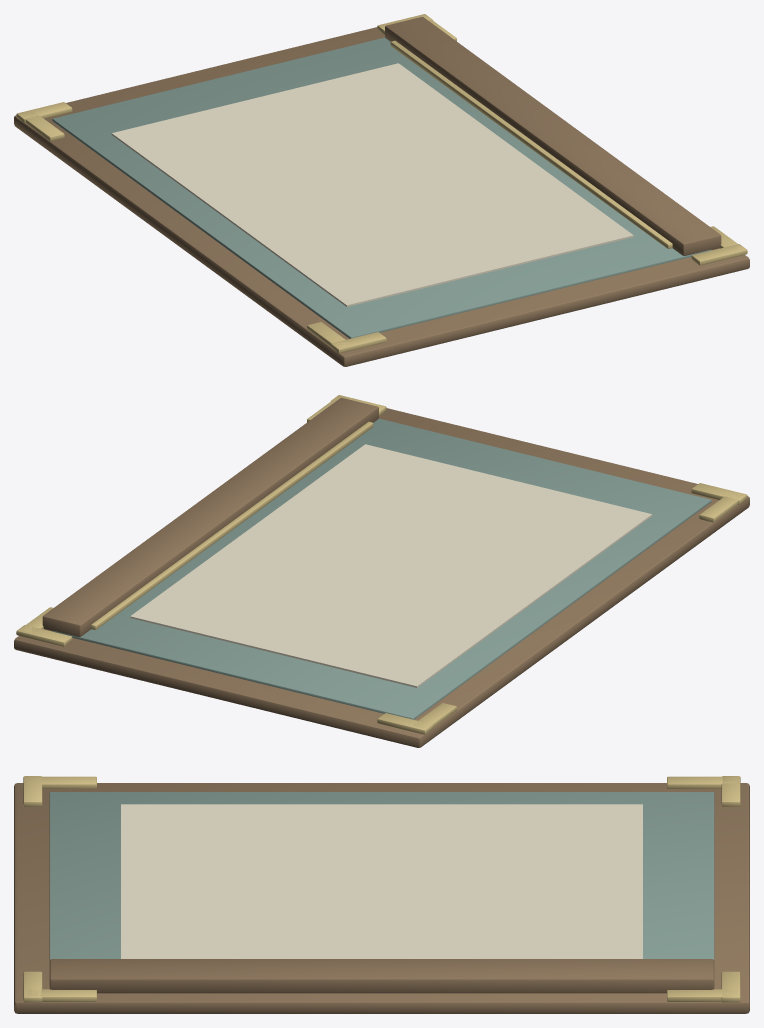
Rendered from CTCC_PROP_Loc08RecoveryBlotter.fbx.
3 renders of one model, top to bottom at view 1: azimuth 30°, elevation 25°; view 2: azimuth 150°, elevation 25°; view 3: azimuth 270°, elevation 25°, orthographic. The views are drawn at different scales.
Parts seen in each view (by area): view 1: CTCC_PROP_Loc08RecoveryBlotter; view 2: CTCC_PROP_Loc08RecoveryBlotter; view 3: CTCC_PROP_Loc08RecoveryBlotter.
Boxes of the visible parts, x1,y1,x2,y2 form: CTCC_PROP_Loc08RecoveryBlotter: [14, 14, 749, 366]; CTCC_PROP_Loc08RecoveryBlotter: [14, 395, 749, 747]; CTCC_PROP_Loc08RecoveryBlotter: [14, 776, 749, 1013].
Size of the model in its own units: 0.442 by 0.027 by 0.62.
